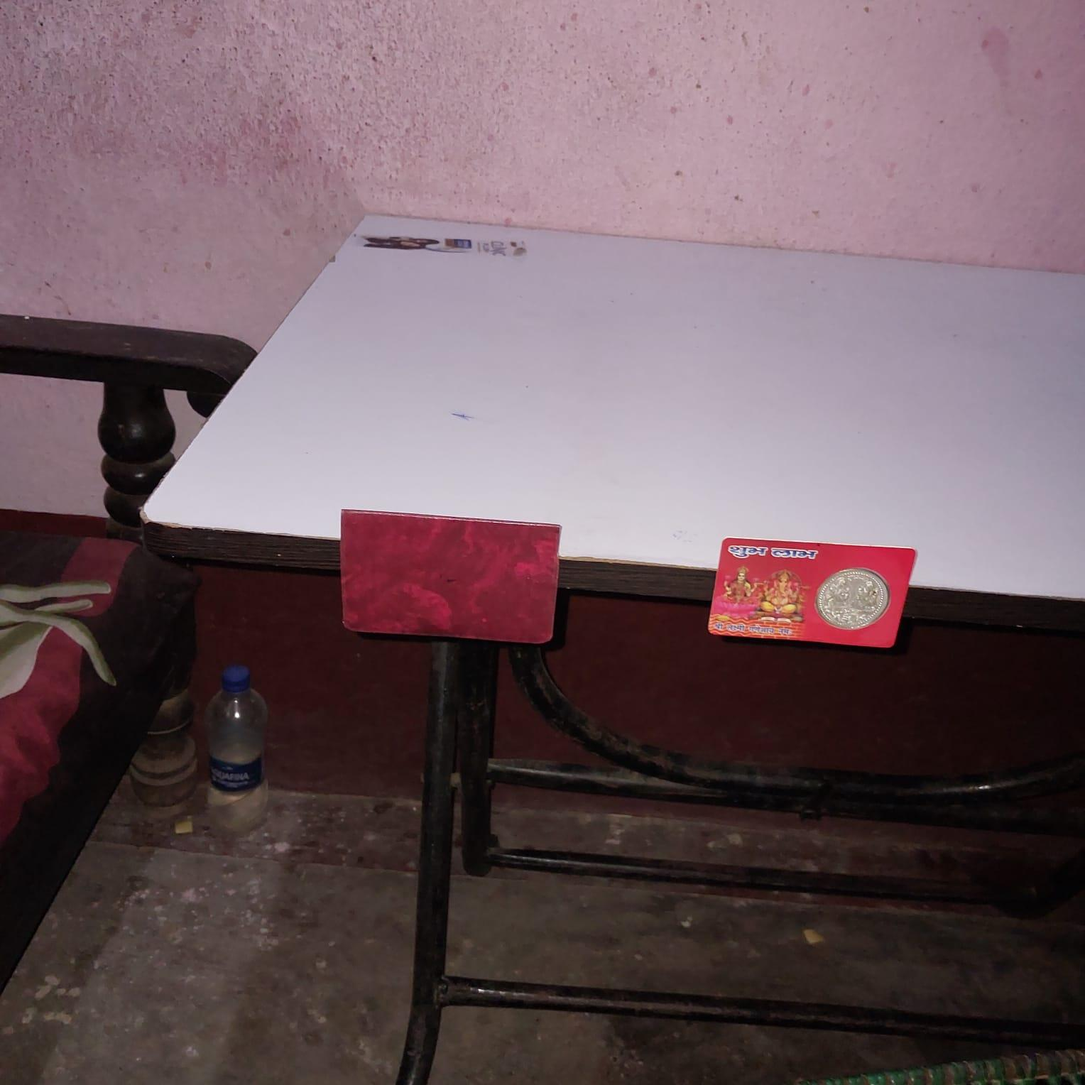blessing_card: (707, 535, 923, 658)
wallet: (336, 507, 566, 642)
